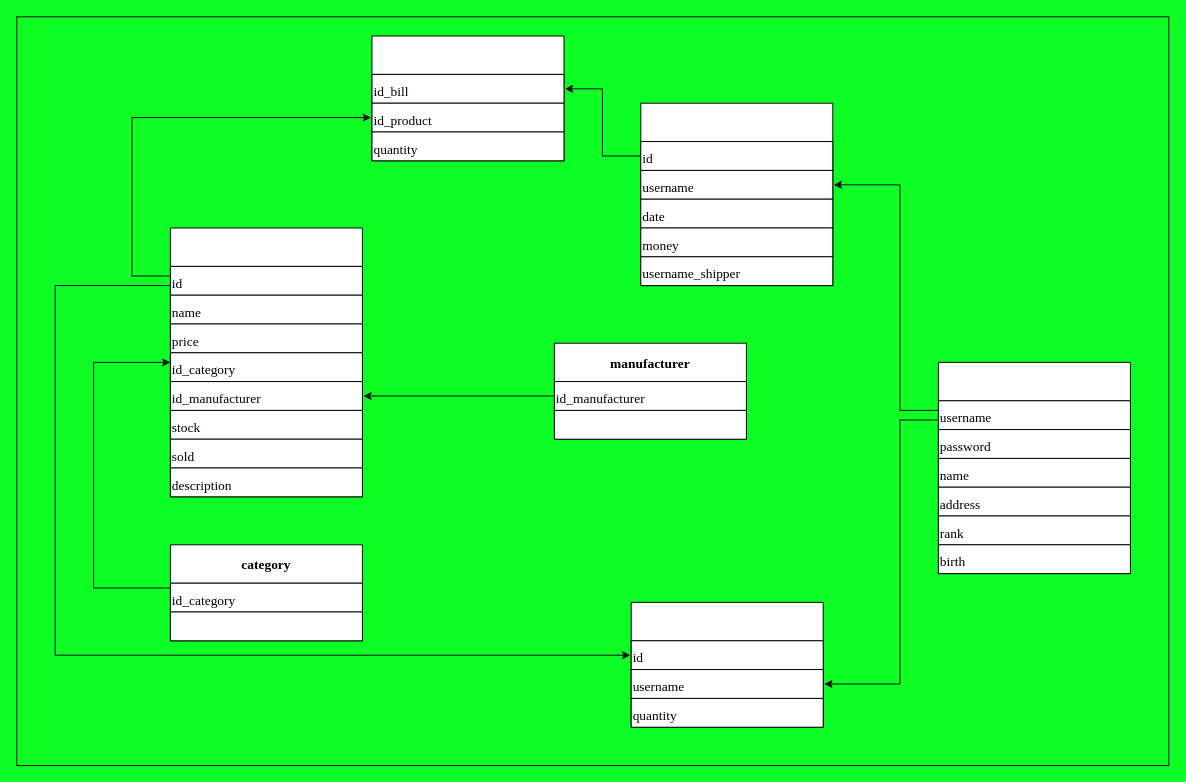
Some shapes in this 1186 by 782 pixel diagram are drawn without their labels. Each missing label, with the box of its shape:
bill_products: (371, 35, 564, 161)
bills: (640, 102, 833, 286)
cart: (630, 601, 823, 727)
name_category: (169, 611, 362, 641)
name_manufacturer: (553, 409, 746, 439)
products: (169, 227, 362, 497)
users: (937, 361, 1130, 574)
